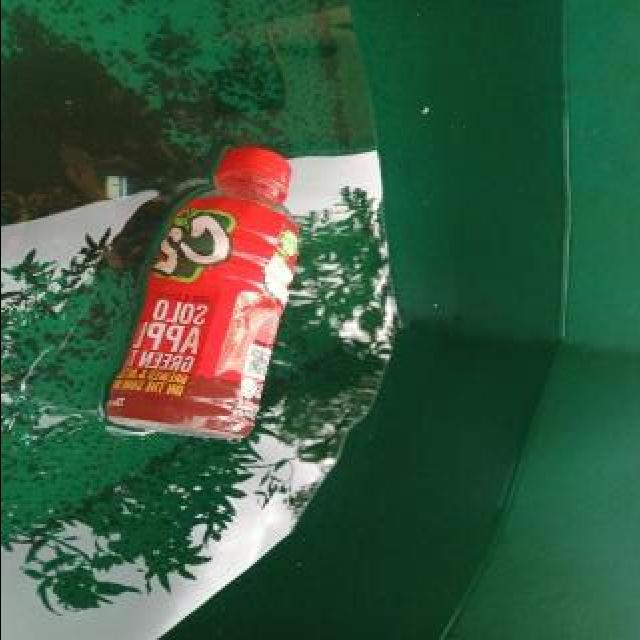Bottle: (101, 144, 293, 445)
